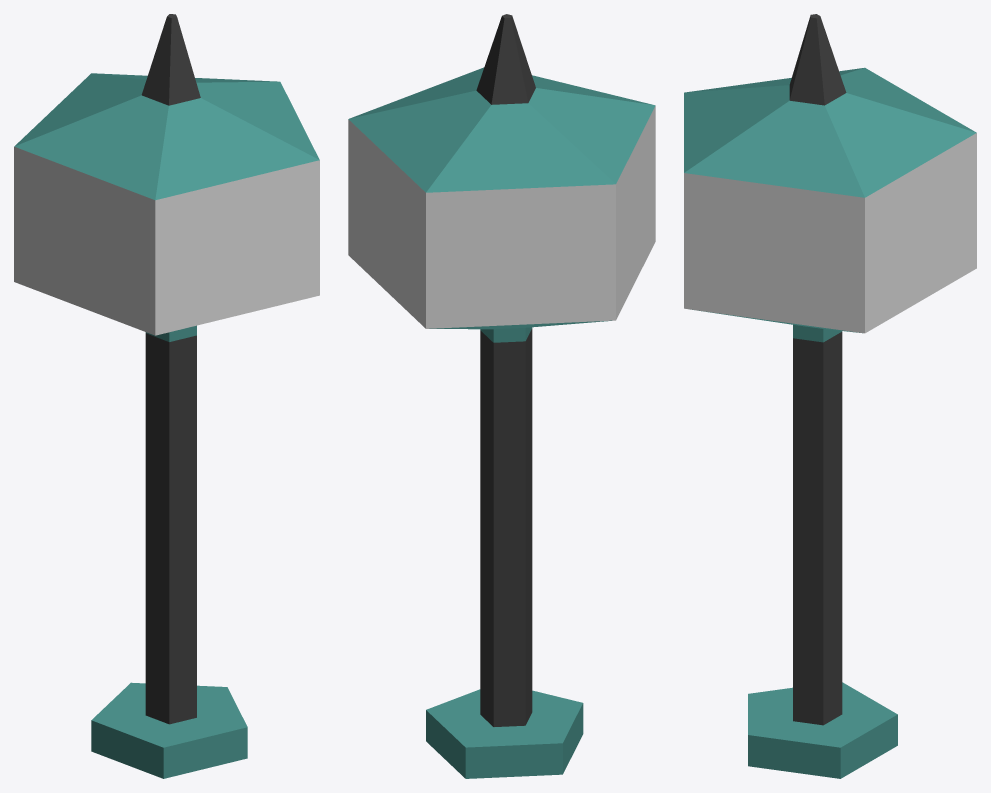
File: ALVORE_2.fbx
3 views of the same model, side by side, from view 1: azimuth 30°, elevation 25°; view 2: azimuth 150°, elevation 25°; view 3: azimuth 270°, elevation 25° (orthographic).
Visible parts, largest first — view 1: Cylinder; view 2: Cylinder; view 3: Cylinder.
Part boxes in pixels (x1=…): Cylinder: x1=14, y1=14, x2=319, y2=778; Cylinder: x1=348, y1=14, x2=655, y2=778; Cylinder: x1=684, y1=14, x2=976, y2=778.
Size of the model in its own units: 372 by 972 by 354.
